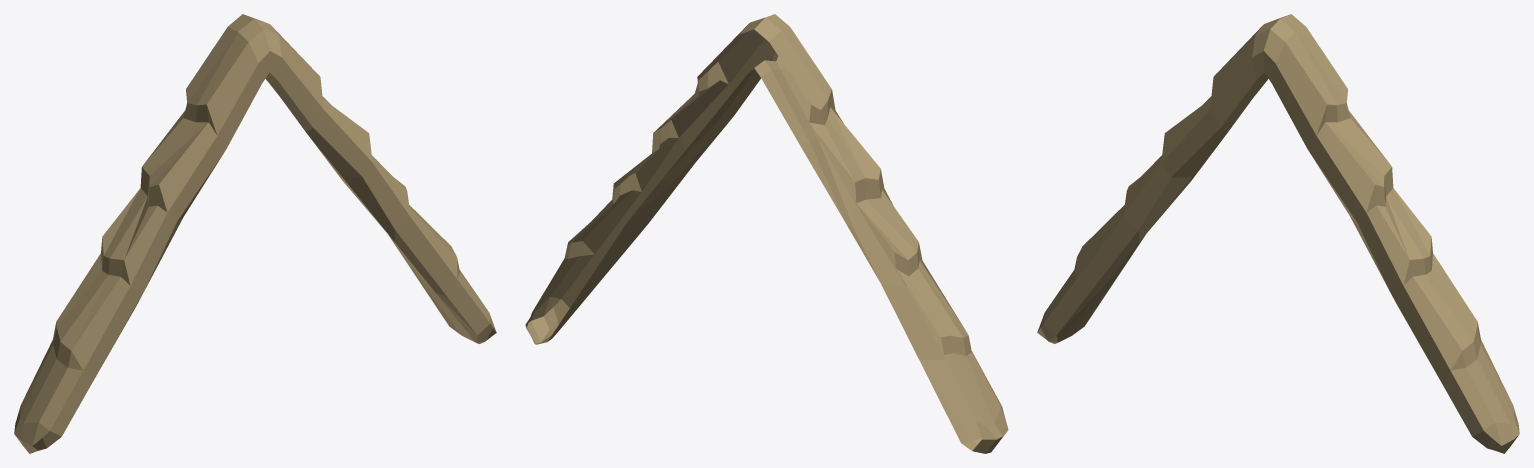
The model's file is rpgpp_ag_roof_02_6x5x3_end_01.fbx.
3 views of the same model, side by side, from view 1: azimuth 30°, elevation 25°; view 2: azimuth 150°, elevation 25°; view 3: azimuth 330°, elevation 25° (orthographic).
Parts seen in each view (by area): view 1: rpgpp_ag_roof_02_6x5x3_end_01; view 2: rpgpp_ag_roof_02_6x5x3_end_01; view 3: rpgpp_ag_roof_02_6x5x3_end_01.
Part boxes in pixels (x1,y1,x2,y2): rpgpp_ag_roof_02_6x5x3_end_01: (14, 14, 496, 453); rpgpp_ag_roof_02_6x5x3_end_01: (525, 14, 1008, 453); rpgpp_ag_roof_02_6x5x3_end_01: (1037, 14, 1519, 453).
Size of the model in its own units: 8.07 by 6.22 by 0.8302.
